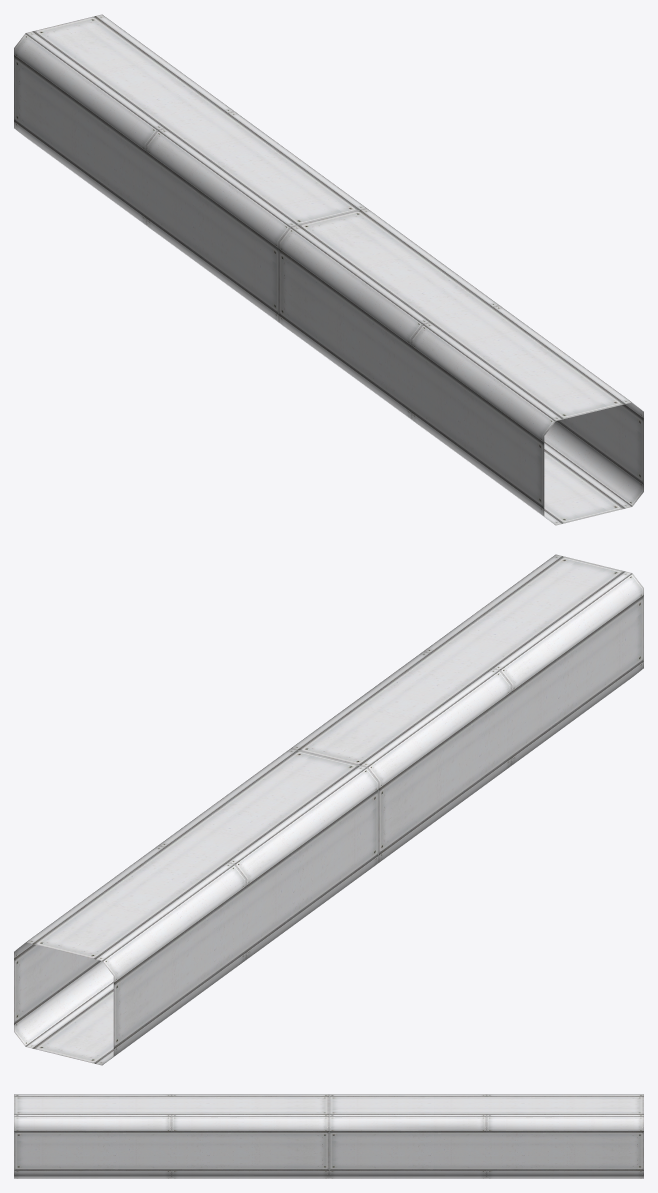
File: CeilingBrace_1x12cappedB.FBX
The picture shows the model from 3 angles, top to bottom: view 1: azimuth 30°, elevation 25°; view 2: azimuth 150°, elevation 25°; view 3: azimuth 270°, elevation 25°; orthographic projection. The views are drawn at different scales.
Visible parts, largest first — view 1: CeilingBrace_1x12cappedB; view 2: CeilingBrace_1x12cappedB; view 3: CeilingBrace_1x12cappedB.
Boxes of the visible parts, x1=… form: CeilingBrace_1x12cappedB: x1=14, y1=14, x2=643, y2=525; CeilingBrace_1x12cappedB: x1=14, y1=554, x2=643, y2=1065; CeilingBrace_1x12cappedB: x1=14, y1=1094, x2=643, y2=1178.
Bounding box in the file's own units: 1.3 × 1.3 × 12.
